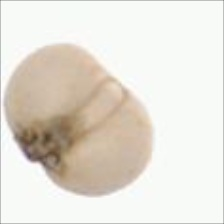L5: (39, 70, 131, 144), (14, 116, 69, 174)
L6: (2, 40, 157, 202)
